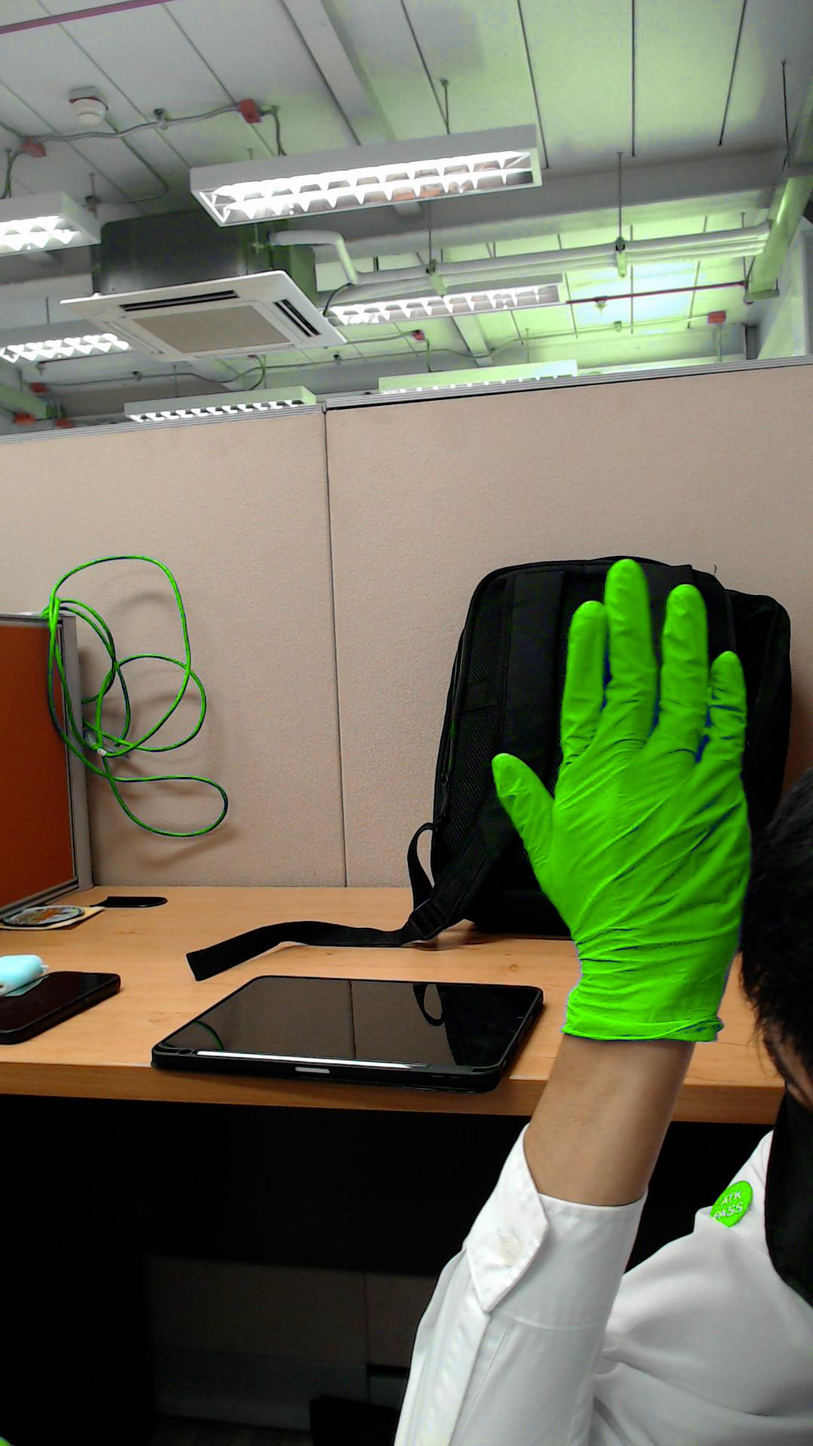gloves: (487, 542, 761, 956)
